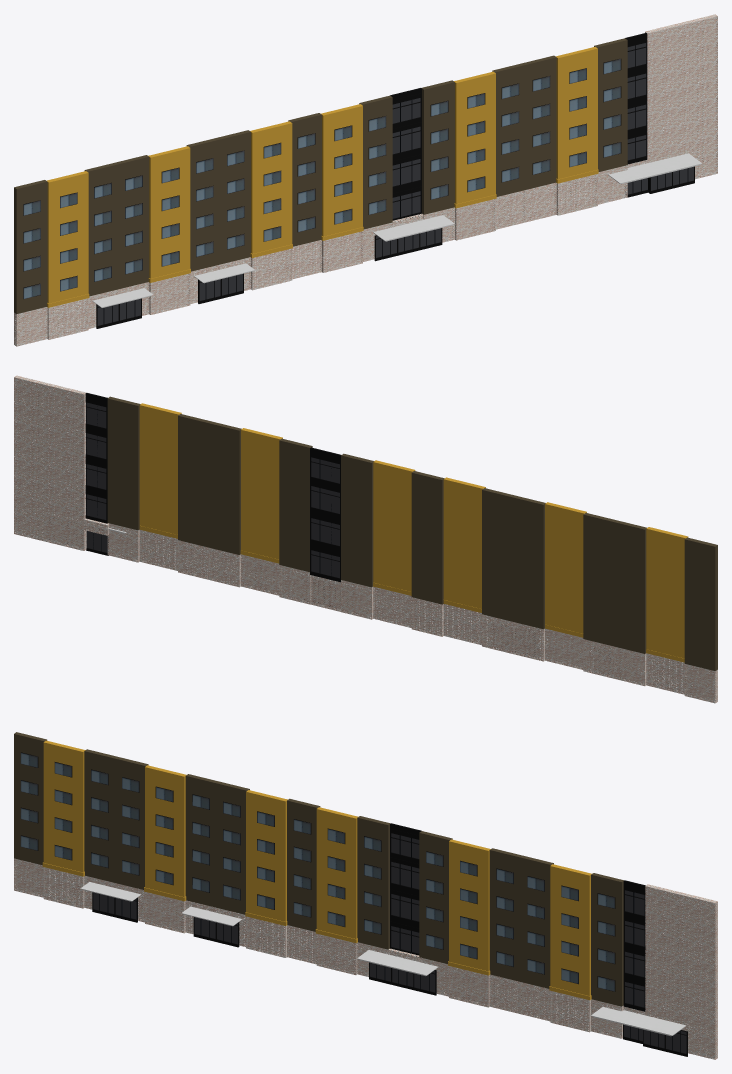
File: camelback_front.obj
The picture shows the model from 3 angles, top to bottom: view 1: azimuth 30°, elevation 25°; view 2: azimuth 150°, elevation 25°; view 3: azimuth 330°, elevation 25°; orthographic projection.
Parts seen in each view (by area): view 1: Part91, Part257, Part288, Part319, Part169, Part236, Part138, Part331, Part150, Part181, Part300, Part269 (+25 smaller); view 2: Part91, Part169, Part319, Part257, Part138, Part236, Part288, Part331, Part129, Part248, Part160, Part227 (+28 smaller); view 3: Part91, Part319, Part236, Part288, Part169, Part138, Part257, Part160, Part227, Part129, Part310, Part279 (+25 smaller).
Part boxes in pixels (<box>): Part91: <box>645,14,717,179</box>; Part257: <box>250,121,292,253</box>; Part288: <box>148,146,190,278</box>; Part319: <box>46,171,88,303</box>; Part169: <box>556,47,597,179</box>; Part236: <box>321,104,362,236</box>; Part138: <box>454,71,495,204</box>; Part331: <box>14,180,47,314</box>; Part150: <box>421,80,454,214</box>; Part181: <box>523,55,556,189</box>; Part300: <box>116,155,149,289</box>; Part269: <box>218,130,250,264</box>; Part91: <box>14,375,86,550</box>; Part169: <box>139,403,181,534</box>; Part319: <box>646,527,688,658</box>; Part257: <box>443,477,485,608</box>; Part138: <box>241,428,282,559</box>; Part236: <box>373,460,415,591</box>; Part288: <box>545,502,586,633</box>; Part331: <box>684,537,717,671</box>; Part129: <box>208,421,241,554</box>; Part248: <box>411,471,444,604</box>; Part160: <box>107,396,140,530</box>; Part227: <box>341,453,374,587</box>; Part91: <box>645,884,717,1059</box>; Part319: <box>43,740,85,872</box>; Part236: <box>316,807,358,938</box>; Part288: <box>145,765,186,897</box>; Part169: <box>550,864,591,995</box>; Part138: <box>449,839,490,971</box>; Part257: <box>246,790,287,921</box>; Part160: <box>591,873,623,1006</box>; Part227: <box>357,816,390,949</box>; Part129: <box>489,848,522,981</box>; Part310: <box>84,749,117,882</box>; Part279: <box>185,774,218,907</box>.
Bounding box in the file's own units: 318 × 68.58 × 12.77.
Materials: 11 (5 with a texture image).
